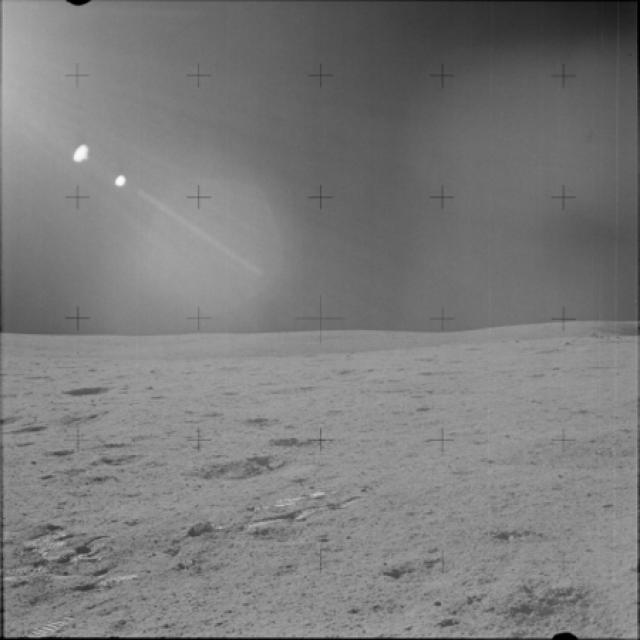crater: (481, 422, 638, 468), (184, 448, 311, 482), (341, 552, 460, 588), (481, 519, 547, 550), (61, 381, 120, 404), (98, 452, 158, 471), (39, 445, 80, 461)
rock: (178, 511, 229, 538)
